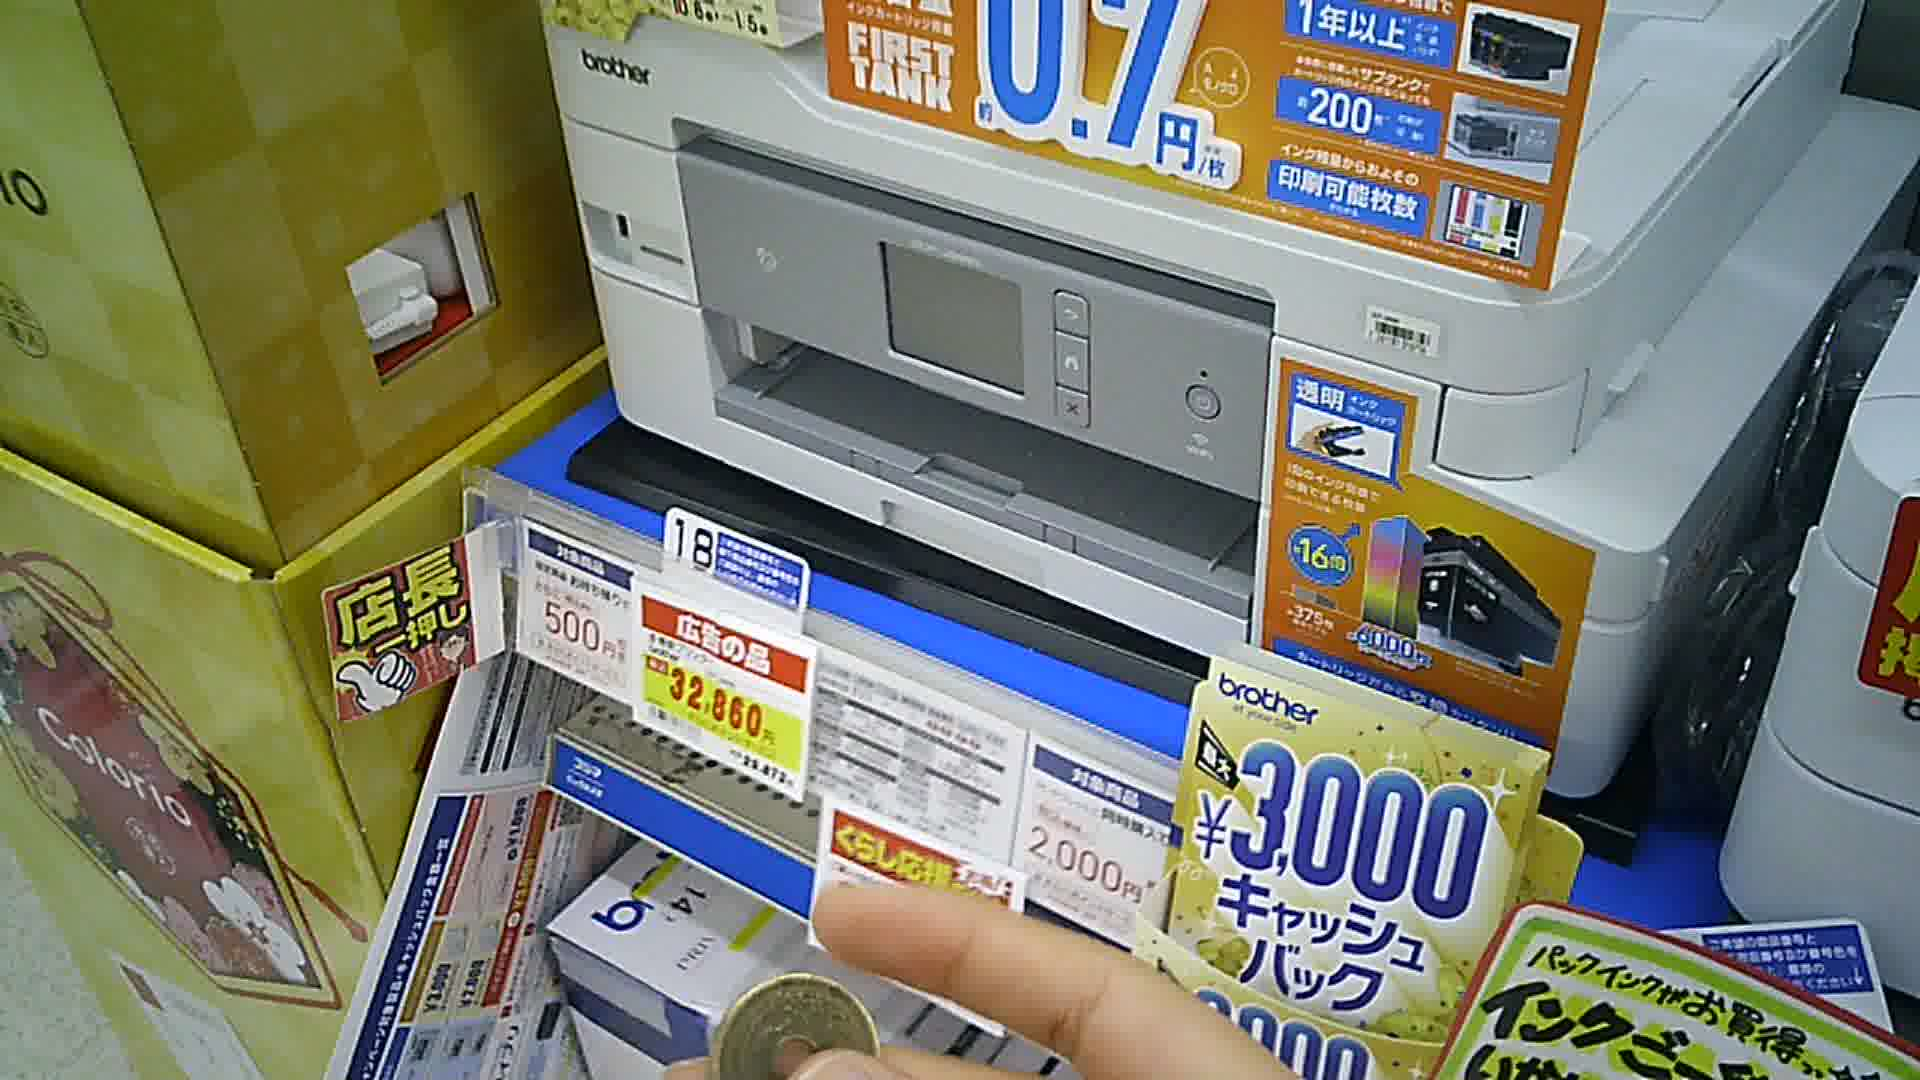5 Yen: (712, 971, 891, 1077)
